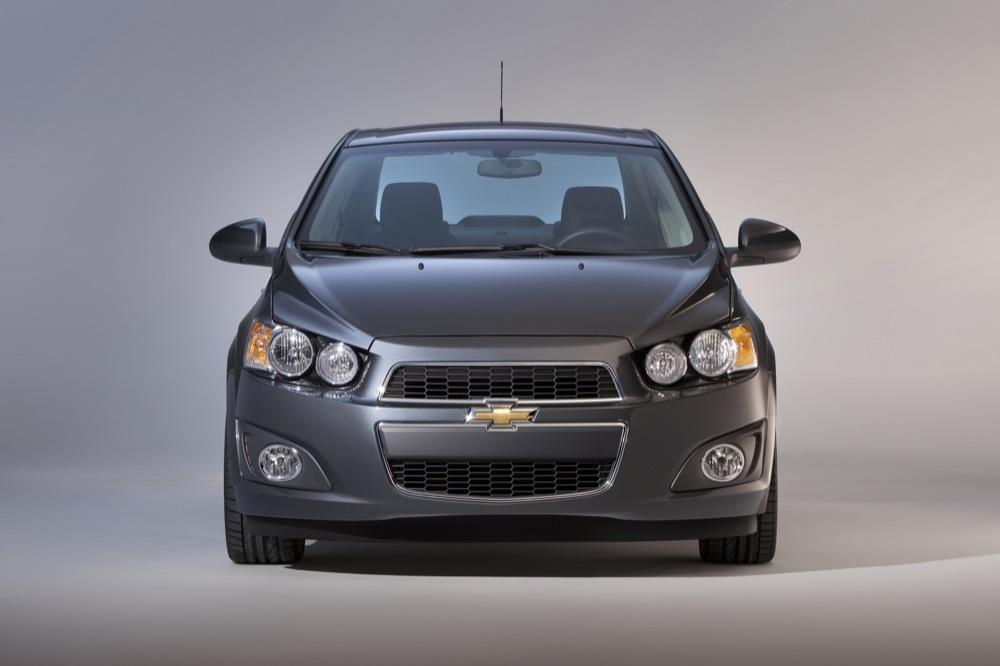car: (181, 62, 829, 615)
